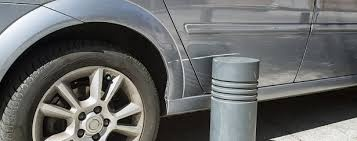Scratch: (167, 52, 244, 68)
